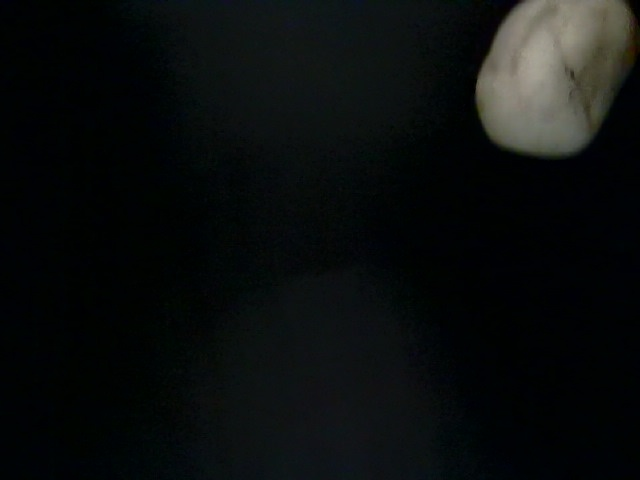QTLJ: (106, 177, 366, 352)
